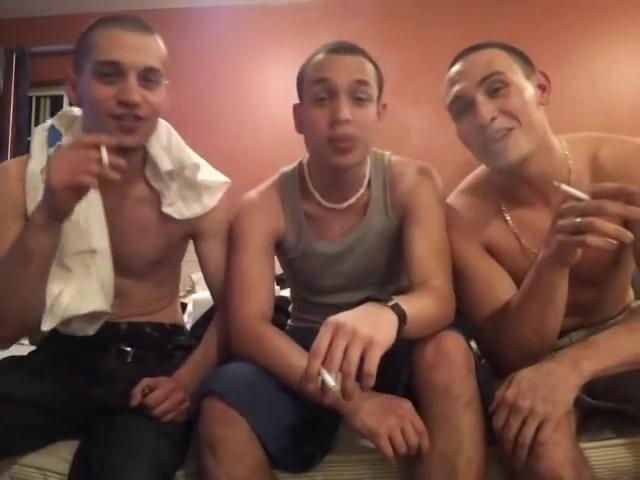cigarette: (550, 183, 594, 203), (317, 362, 341, 394), (99, 143, 111, 171)
